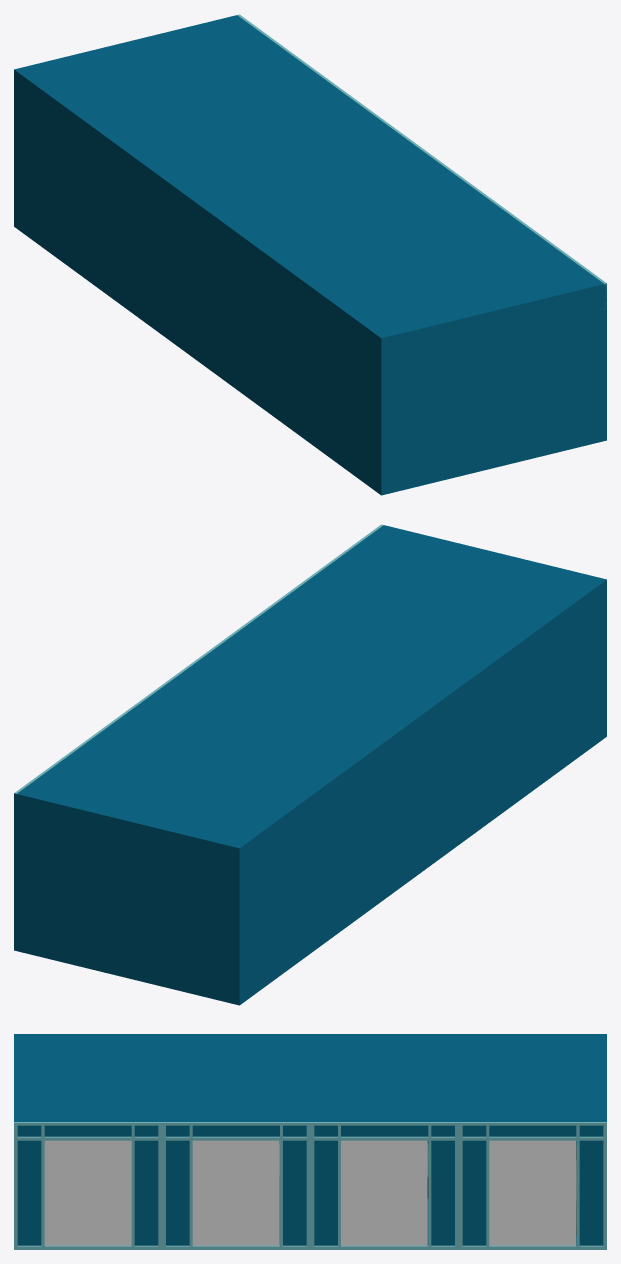
File: Ofis Kat-3.fbx
3 renders of one model, top to bottom at view 1: azimuth 30°, elevation 25°; view 2: azimuth 150°, elevation 25°; view 3: azimuth 270°, elevation 25°, orthographic. The views are drawn at different scales.
Parts seen in each view (by area): view 1: Bina-3, Zemin.002; view 2: Bina-3, Zemin.002; view 3: Bina-3, Bina Cam-3.
Part boxes in pixels (x1,y1,x2,y2): Bina-3: (14, 14, 606, 494); Zemin.002: (14, 73, 606, 495); Bina-3: (14, 524, 606, 1005); Zemin.002: (14, 594, 606, 1004); Bina-3: (14, 1034, 606, 1249); Bina Cam-3: (44, 1140, 575, 1245).
Bounding box in the file's own units: 202 × 138 × 571.
